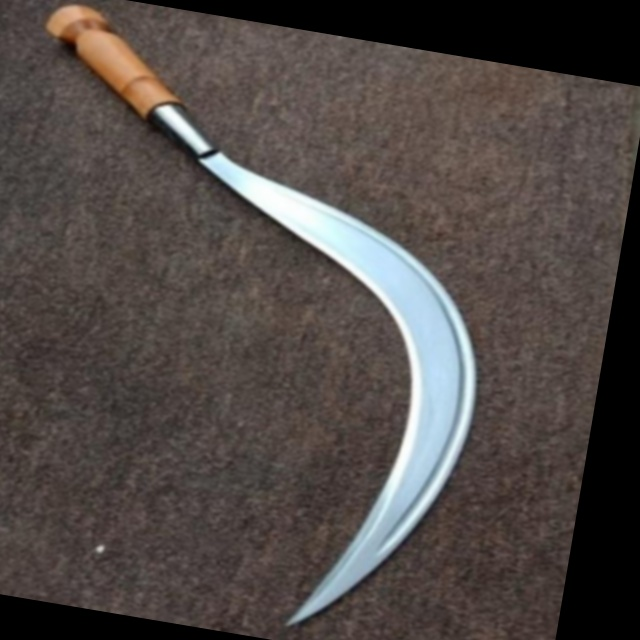Sharp-Object: (0, 0, 548, 640)
